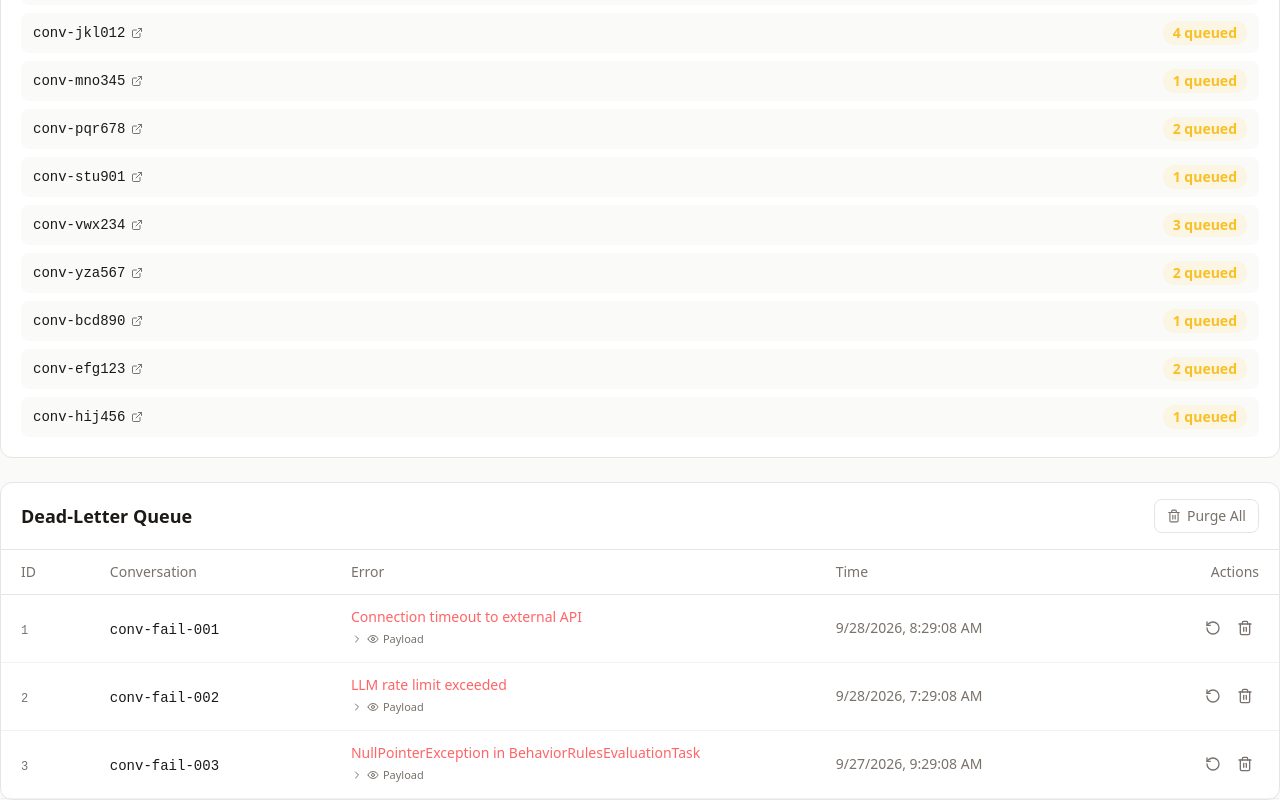
Test: CoordinatorPage › shows purge button and purge confirmation flow
This screenshot has width=1280, height=800.
(page scrolled)
Click the button with test id "purge-dead-letters-btn".
click(1206, 516)  # box [1154,499,1259,533]
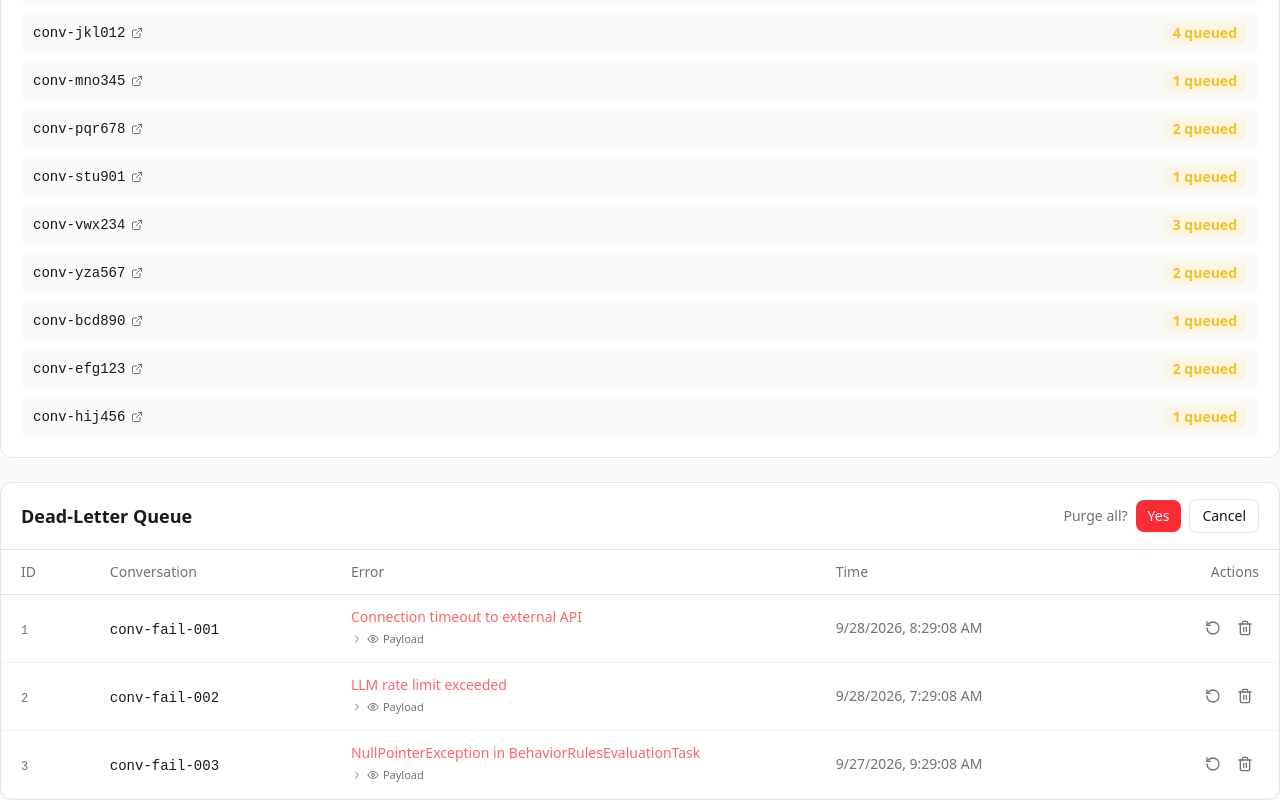
Now the text "Purge all?" is shown, box [1064,506,1128,526]
Now the button "Yes" is shown, box [1136,500,1181,532]
Now the button "Cancel" is shown, box [1189,499,1259,533]
